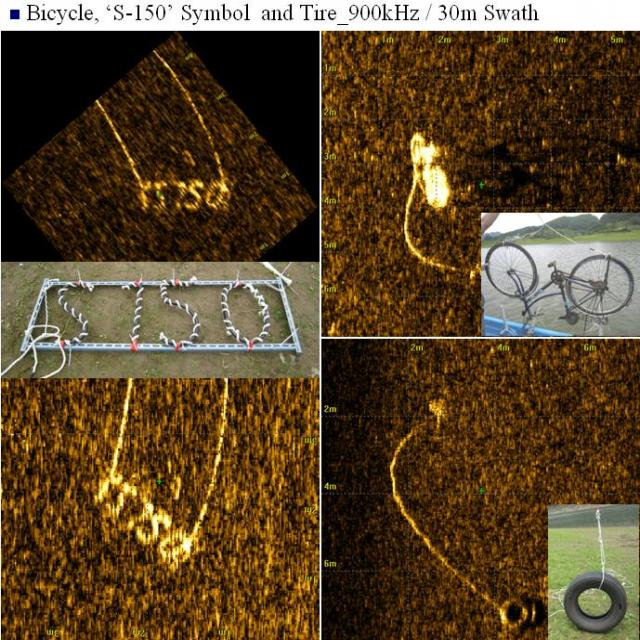other: (379, 384, 537, 632), (384, 115, 472, 288), (96, 463, 200, 573), (104, 151, 242, 222)
